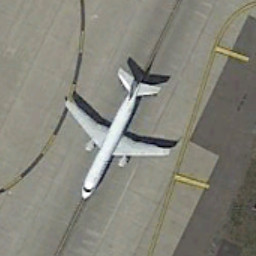Airplane: (60, 54, 179, 206)
